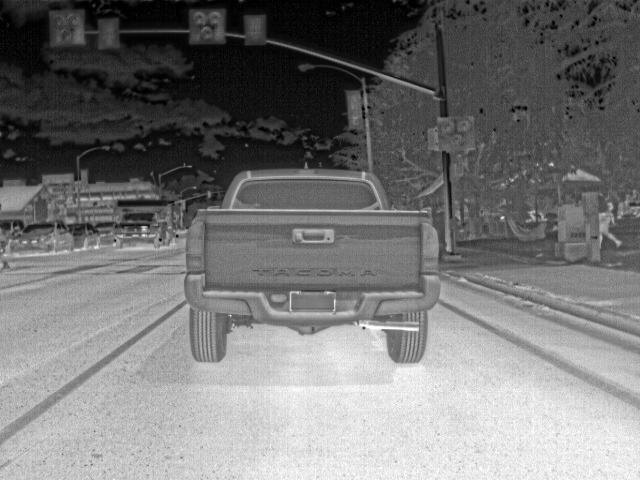car: (184, 168, 440, 362), (27, 221, 73, 254), (65, 221, 98, 251), (95, 222, 118, 250), (0, 220, 15, 234)
person: (598, 200, 622, 250), (5, 223, 23, 254)
